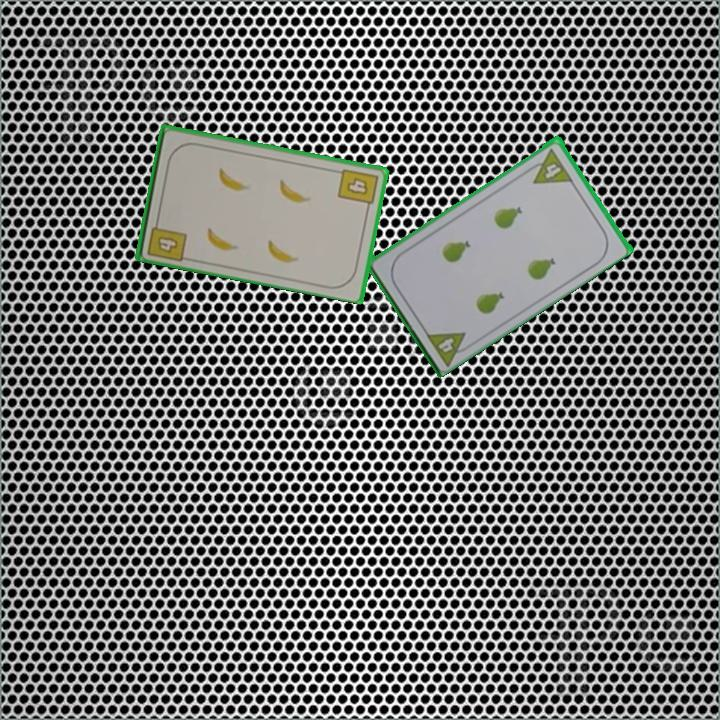4b: (143, 214, 189, 264), (334, 165, 381, 213)
4p: (523, 144, 575, 187), (422, 328, 476, 368)
